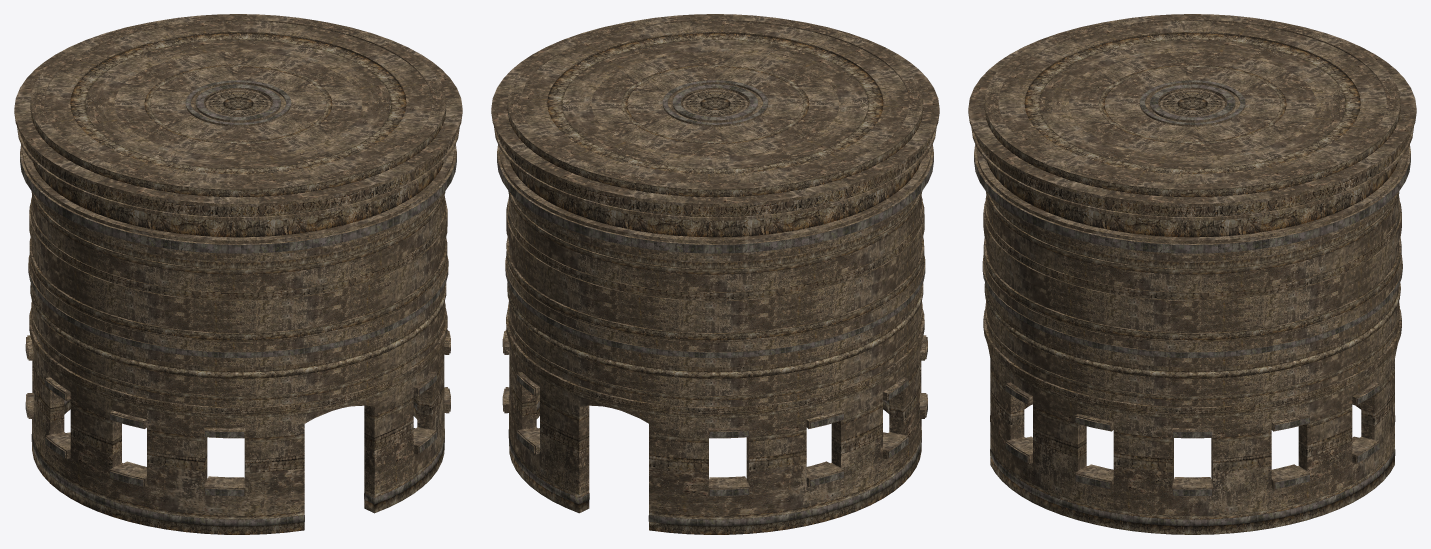
Rendered from materials_5_building_13.fbx.
3 views of the same model, side by side, from view 1: azimuth 30°, elevation 25°; view 2: azimuth 150°, elevation 25°; view 3: azimuth 270°, elevation 25° (orthographic).
Parts seen in each view (by area): view 1: materials_5_building_13; view 2: materials_5_building_13; view 3: materials_5_building_13.
Part boxes in pixels (box(x1,y1,x2,y2)): materials_5_building_13: box(14, 14, 462, 534); materials_5_building_13: box(491, 14, 939, 534); materials_5_building_13: box(968, 14, 1416, 534).
Size of the model in its own units: 734 by 624 by 734.
